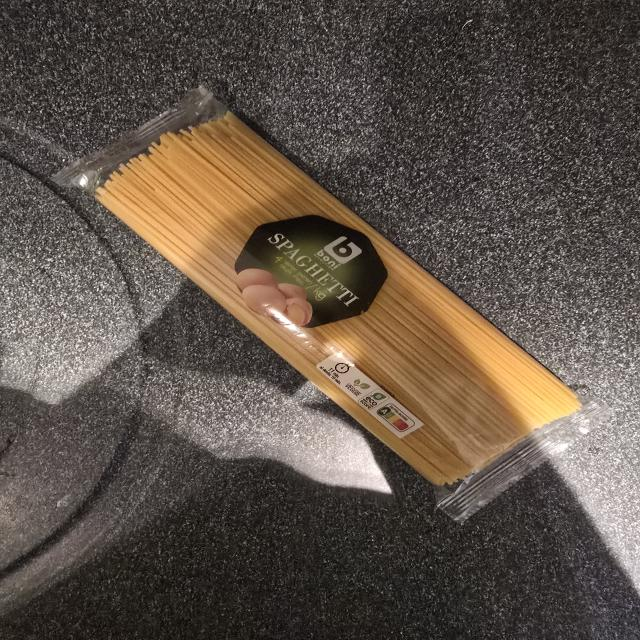Pasta: (54, 90, 607, 486)
